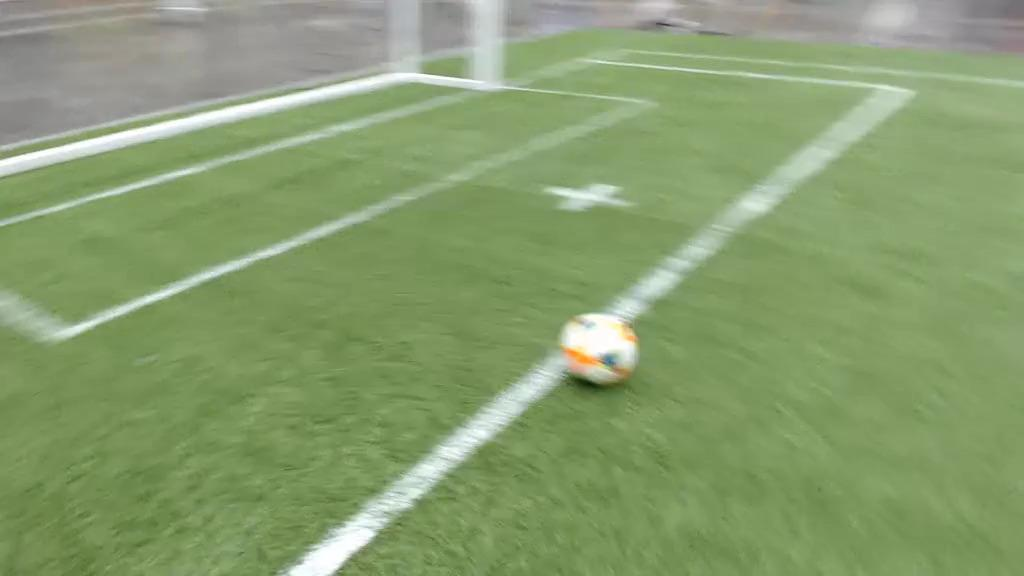ball: (560, 312, 639, 384)
